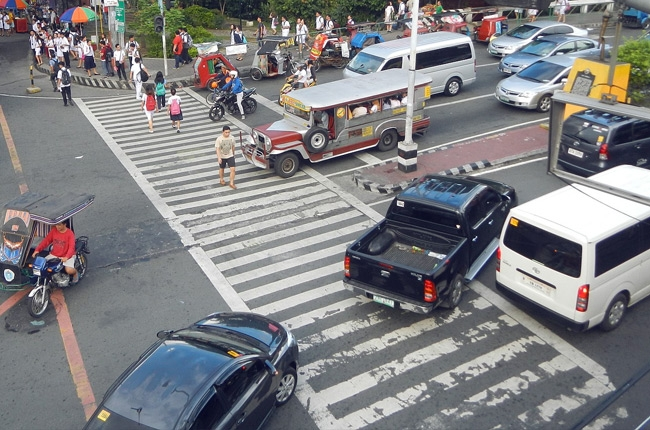bike: (28, 234, 89, 316), (208, 90, 260, 122)
car: (77, 309, 300, 430), (495, 162, 650, 333), (339, 172, 518, 313), (245, 68, 433, 171), (350, 31, 478, 97), (493, 61, 587, 111)
pedestrian lane: (73, 86, 626, 430)
person: (41, 222, 82, 282), (215, 125, 237, 188), (224, 70, 251, 119), (141, 85, 158, 133), (167, 89, 182, 132), (58, 62, 73, 104)
pole: (401, 1, 417, 172)
traffic light: (154, 15, 162, 33)
